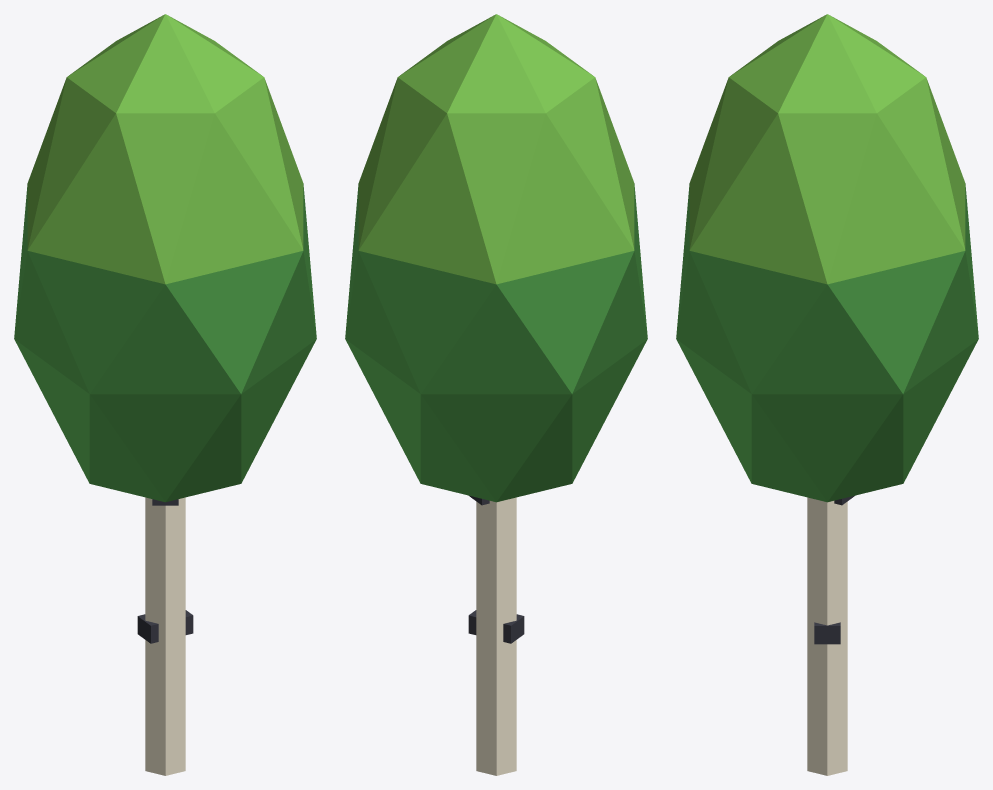
Rendered from Tree4.fbx.
The picture shows the model from 3 angles, left to right: view 1: azimuth 30°, elevation 25°; view 2: azimuth 150°, elevation 25°; view 3: azimuth 270°, elevation 25°; orthographic projection.
Parts seen in each view (by area): view 1: Tree4; view 2: Tree4; view 3: Tree4.
Boxes of the visible parts, x1,y1,x2,y2 form: Tree4: (14,14,316,775); Tree4: (345,14,647,775); Tree4: (676,14,978,775).
Bounding box in the file's own units: 0.48 × 1.25 × 0.456.
